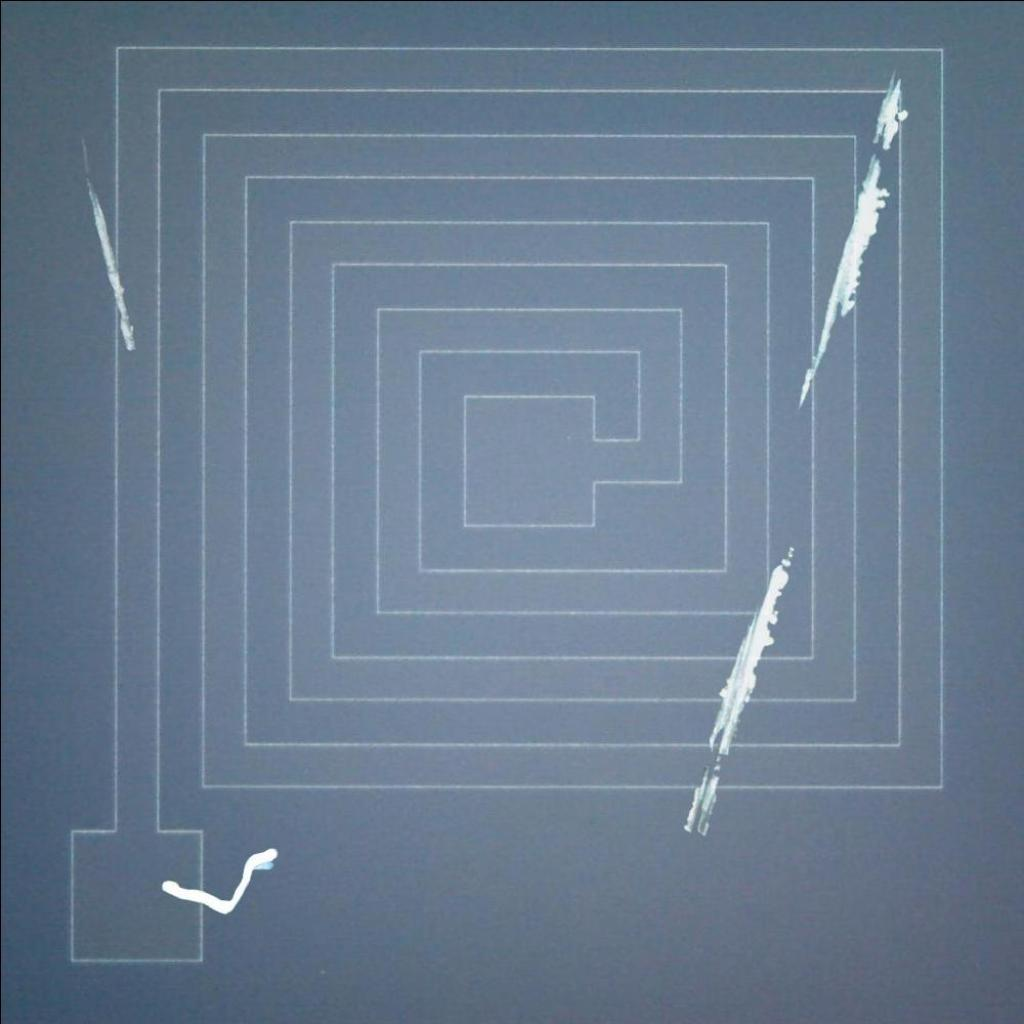line: (154, 836, 287, 924)
scratch: (786, 66, 916, 414), (674, 536, 804, 844), (77, 154, 142, 355)
